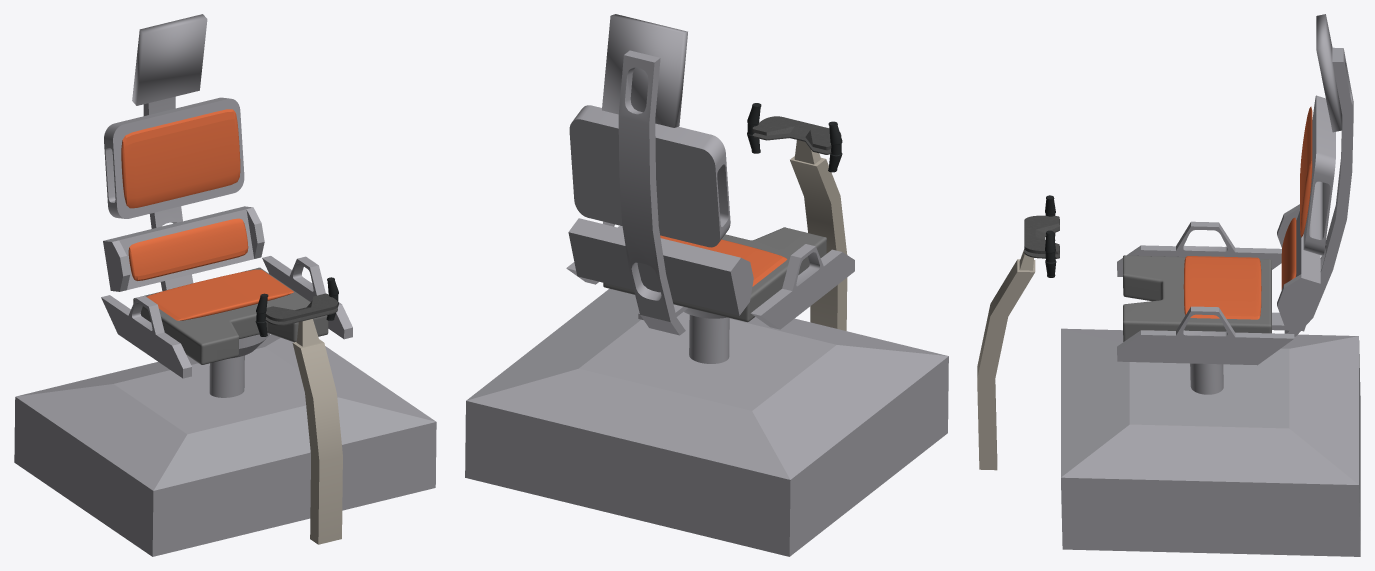
The model's file is pilot-seat.glb.
The picture shows the model from 3 angles, left to right: view 1: azimuth 30°, elevation 25°; view 2: azimuth 150°, elevation 25°; view 3: azimuth 270°, elevation 25°; orthographic projection. The views are drawn at different scales.
Parts seen in each view (by area): view 1: Cube.100; view 2: Cube.100; view 3: Cube.100.
Boxes of the visible parts, x1,y1,x2,y2 form: Cube.100: [14, 14, 436, 556]; Cube.100: [465, 14, 948, 556]; Cube.100: [977, 14, 1360, 556].
Bounding box in the file's own units: 9.98 × 14.1 × 10.86.
6 materials, 5 textured.
